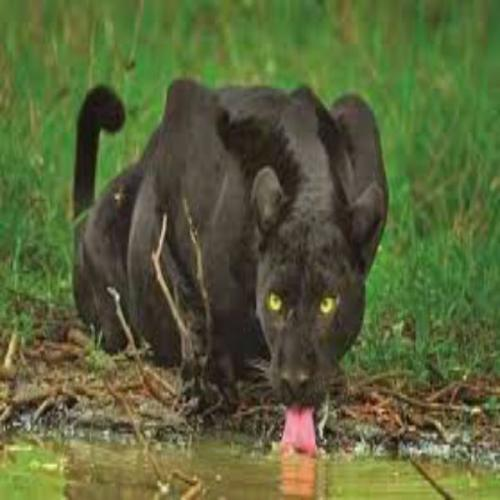panther-endangered: (71, 77, 389, 452)
